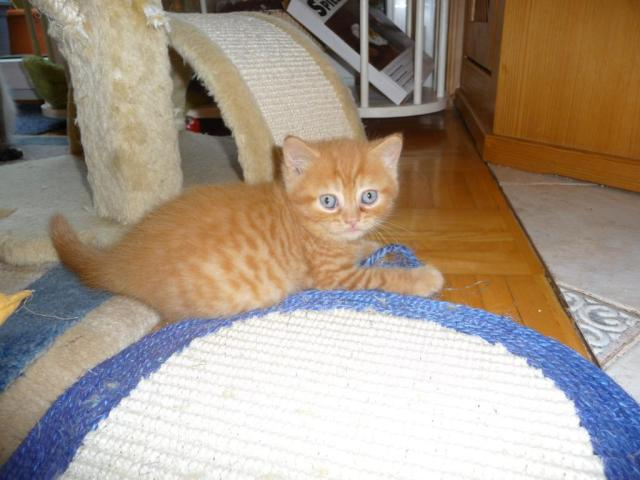Cat: (52, 133, 438, 320)
